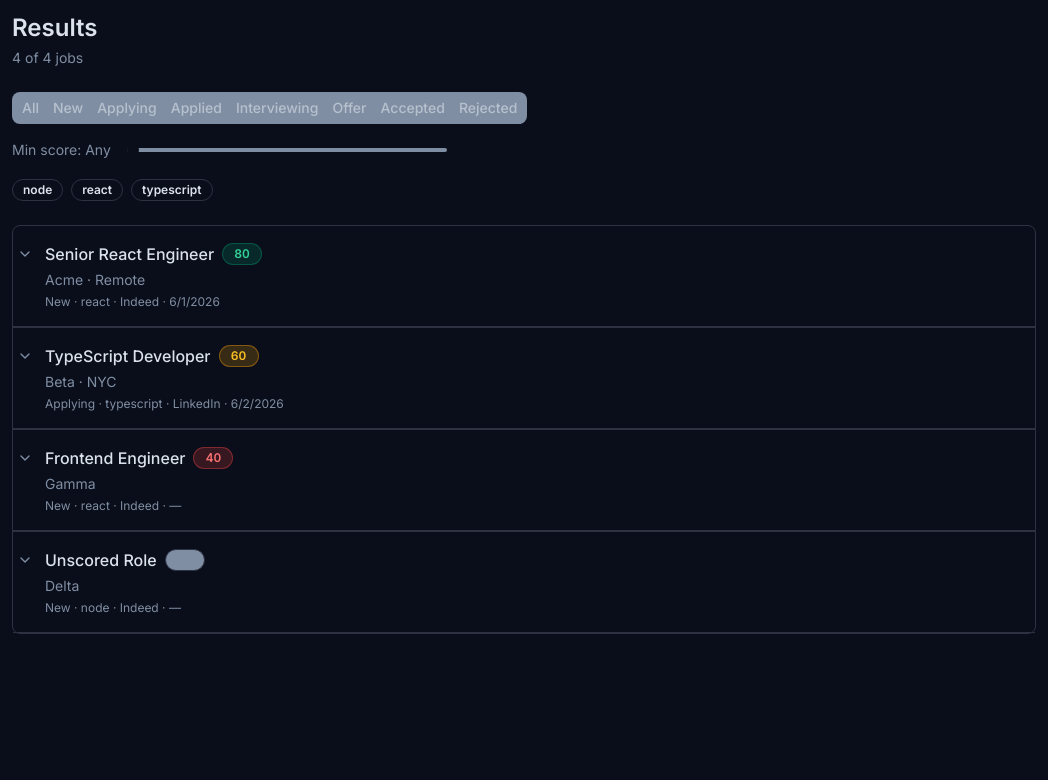
ResultsScreen › shows no matches message when filters hide all jobs
Expected: the heading "Senior React Engineer" is shown, [45,242,214,266]
Click the tab "Rejected".
click(488, 108)  # box [452,96,524,120]
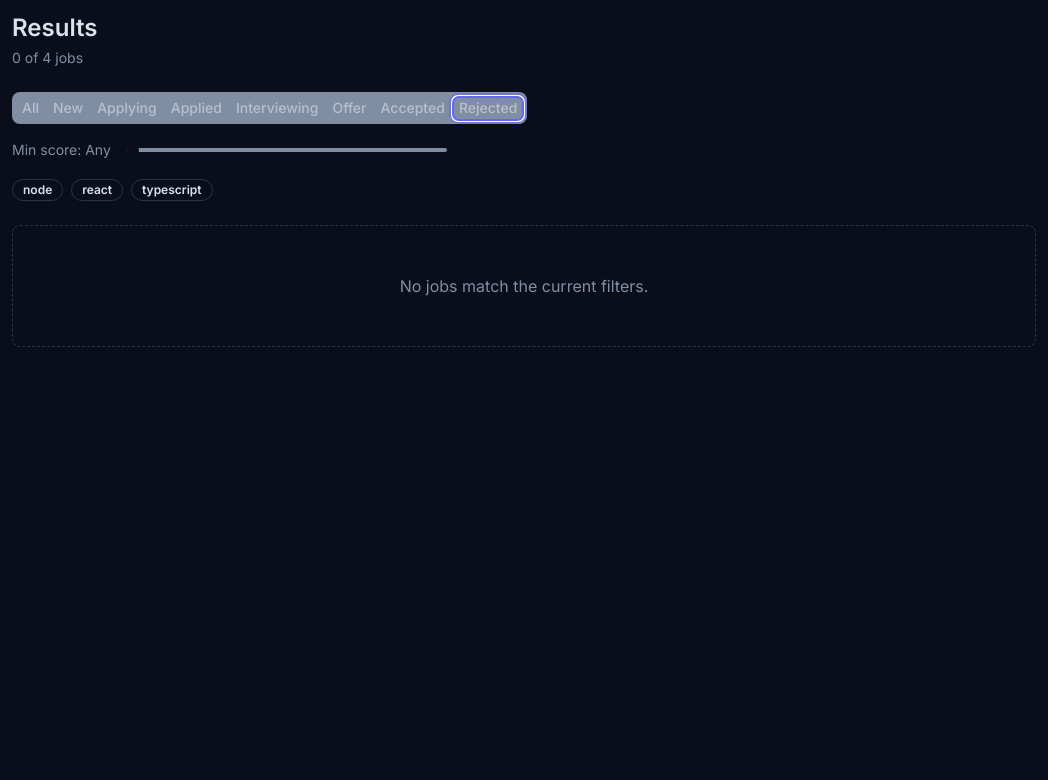
Expected: the text "No jobs match the current filters." is shown, [400,276,648,296]
